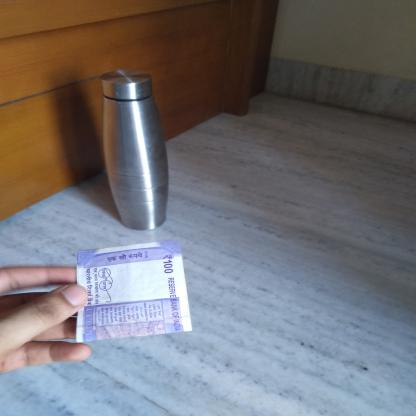New100Back: (76, 248, 184, 342)
